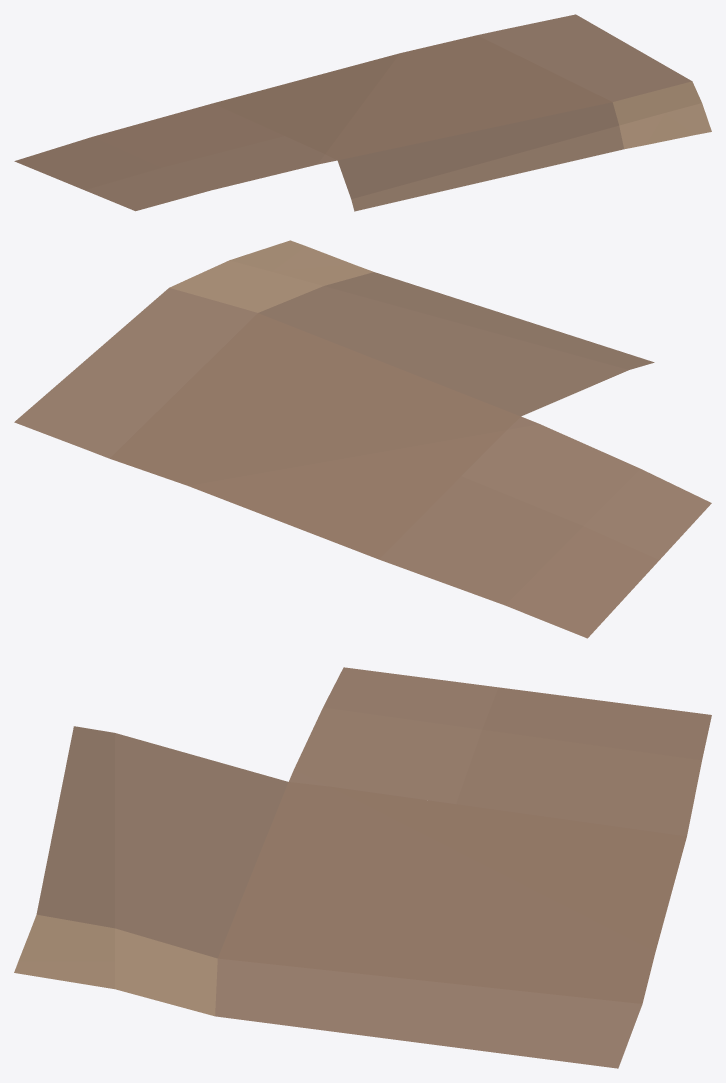
File: farm_20_38_soil.glb
3 renders of one model, top to bottom at view 1: azimuth 30°, elevation 25°; view 2: azimuth 150°, elevation 25°; view 3: azimuth 270°, elevation 25°, orthographic. The views are drawn at different scales.
Visible parts, largest first — view 1: geometry_0; view 2: geometry_0; view 3: geometry_0.
Boxes of the visible parts, x1,y1,x2,y2 form: geometry_0: (14, 14, 711, 211); geometry_0: (14, 240, 711, 638); geometry_0: (14, 667, 711, 1068).
Bounding box in the file's own units: 110 × 14.33 × 77.98.
